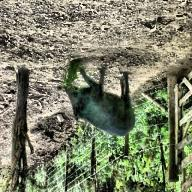boar: (63, 67, 141, 142)
